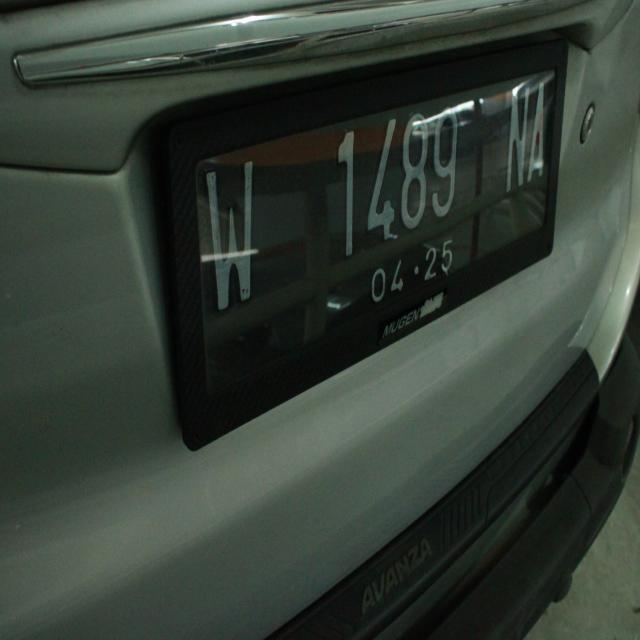1: (327, 120, 365, 266)
4: (364, 112, 402, 240)
8: (392, 104, 432, 233)
9: (429, 103, 469, 225)
A: (528, 72, 547, 188)
N: (496, 78, 532, 194)
W: (186, 138, 266, 308)
